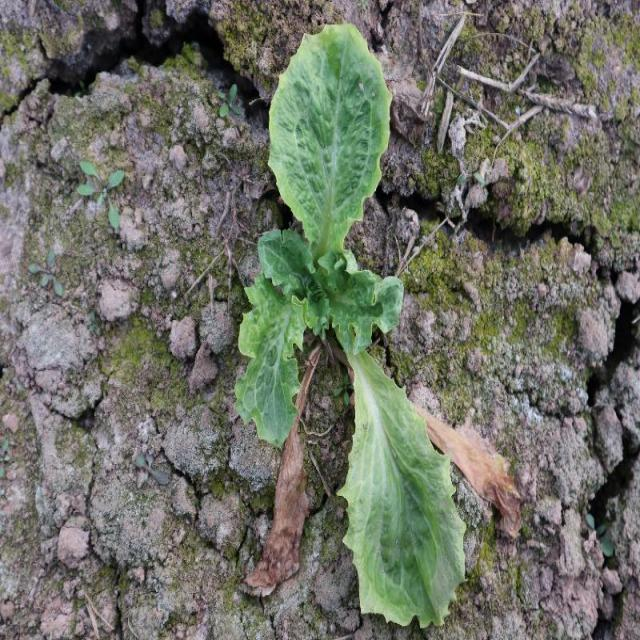crop: (234, 24, 469, 628)
